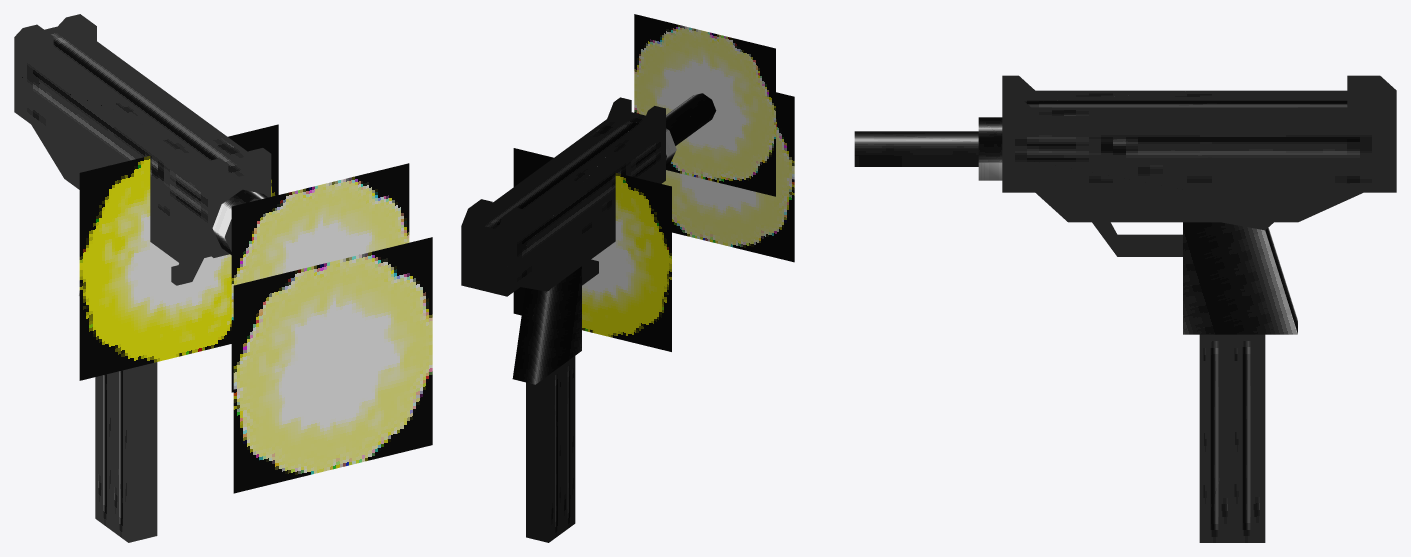
File: GuziZ.obj
3 views of the same model, side by side, from view 1: azimuth 30°, elevation 25°; view 2: azimuth 150°, elevation 25°; view 3: azimuth 270°, elevation 25° (orthographic). The views are drawn at different scales.
Bounding box in the file's own units: 152 × 354 × 384.
18 materials, 18 textured.
